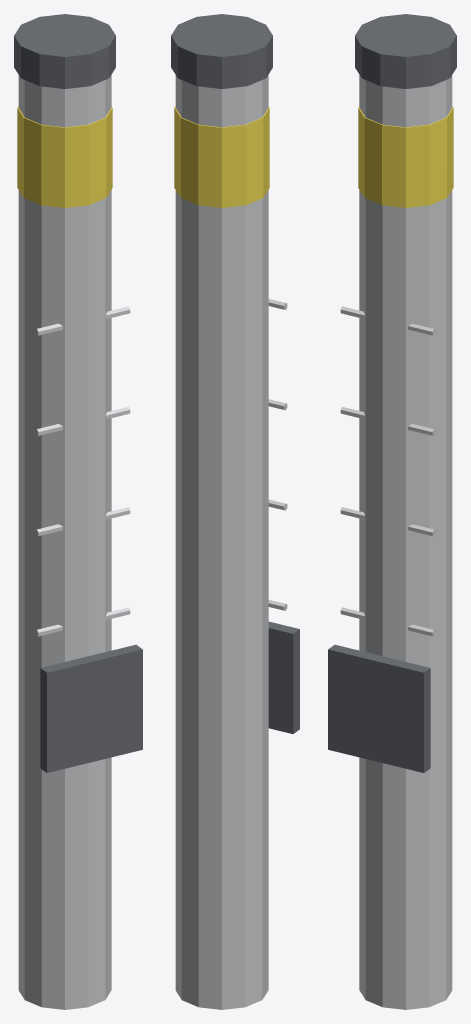
File: marina-and-yacht-club-marina-and-yacht-club-mooring-pi-10428871__38301.glb
3 views of the same model, side by side, from view 1: azimuth 30°, elevation 25°; view 2: azimuth 150°, elevation 25°; view 3: azimuth 330°, elevation 25° (orthographic).
Parts seen in each view (by area): view 1: marina-and-yacht-club-mooring-pile; view 2: marina-and-yacht-club-mooring-pile; view 3: marina-and-yacht-club-mooring-pile.
Part boxes in pixels (x1,y1,x2,y2): marina-and-yacht-club-mooring-pile: (14, 14, 142, 1009); marina-and-yacht-club-mooring-pile: (171, 14, 299, 1009); marina-and-yacht-club-mooring-pile: (328, 14, 456, 1009).
Bounding box in the file's own units: 0.5 × 4.76 × 0.5.
